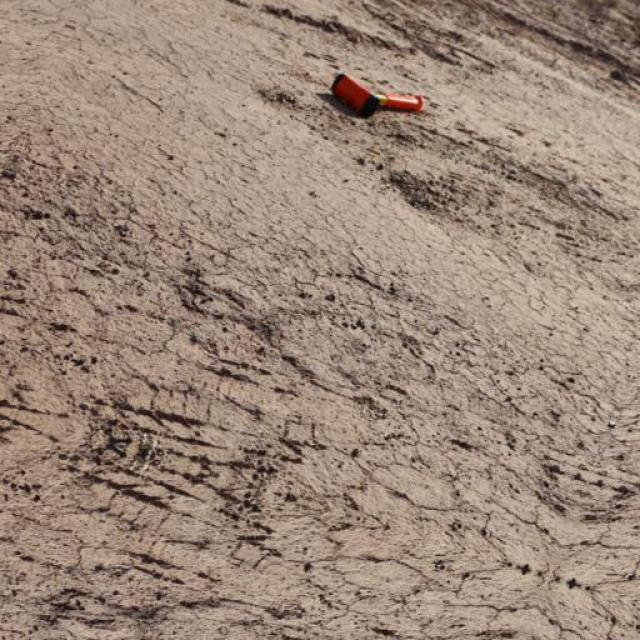mallet: (332, 70, 426, 118)
